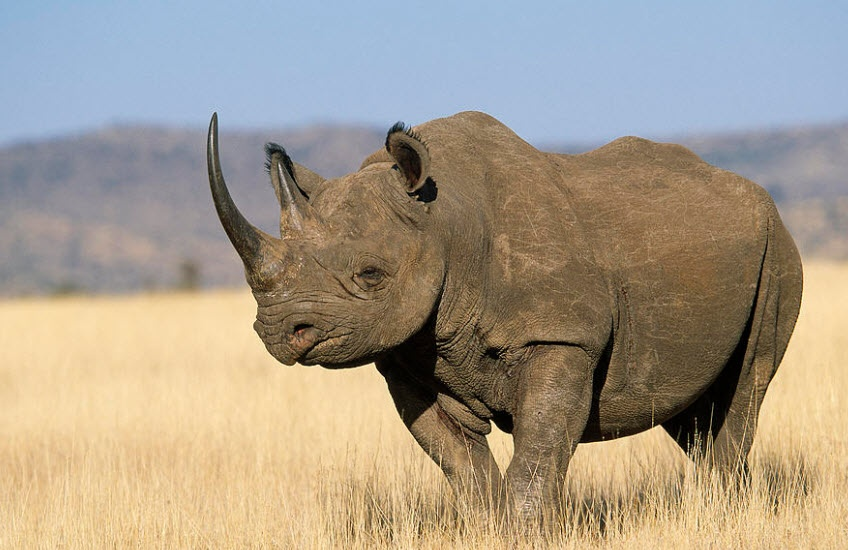rhino: (203, 104, 804, 537)
